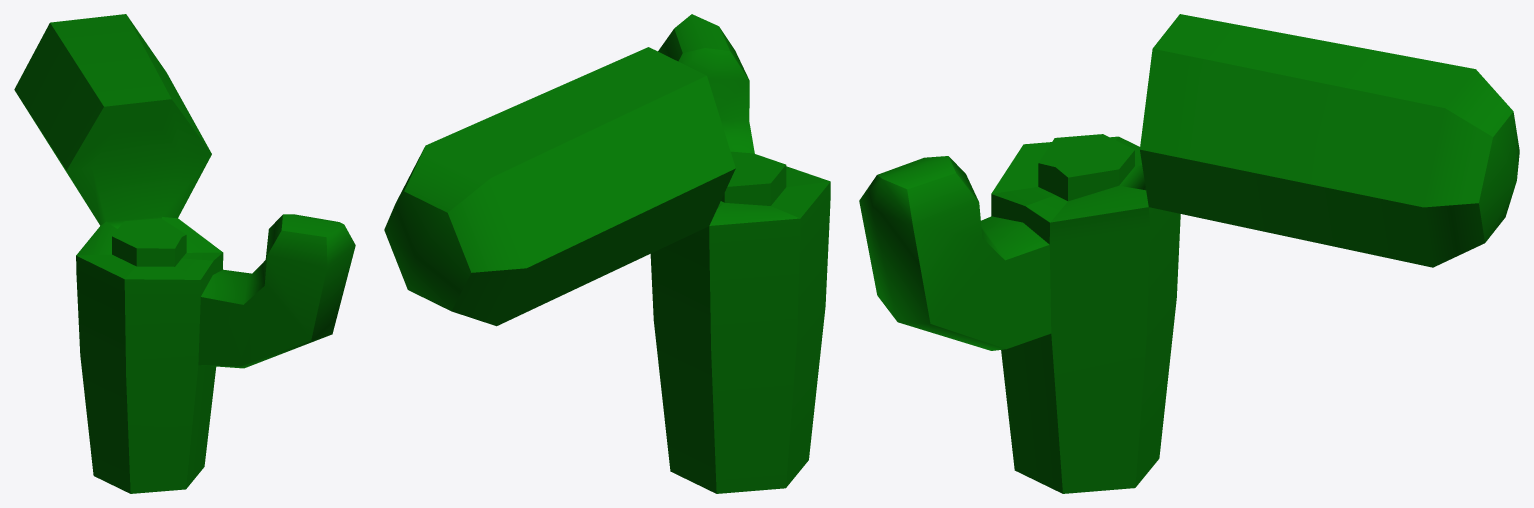
The model's file is Cactus_Obstacle_1.fbx.
The picture shows the model from 3 angles, left to right: view 1: azimuth 30°, elevation 25°; view 2: azimuth 150°, elevation 25°; view 3: azimuth 270°, elevation 25°; orthographic projection. The views are drawn at different scales.
Visible parts, largest first — view 1: Cactus_Obstacle_1; view 2: Cactus_Obstacle_1; view 3: Cactus_Obstacle_1.
Boxes of the visible parts, x1,y1,x2,y2 form: Cactus_Obstacle_1: (14,14,355,493); Cactus_Obstacle_1: (384,14,830,493); Cactus_Obstacle_1: (859,14,1519,493).
Bounding box in the file's own units: 5.89 × 9.28 × 12.45.
